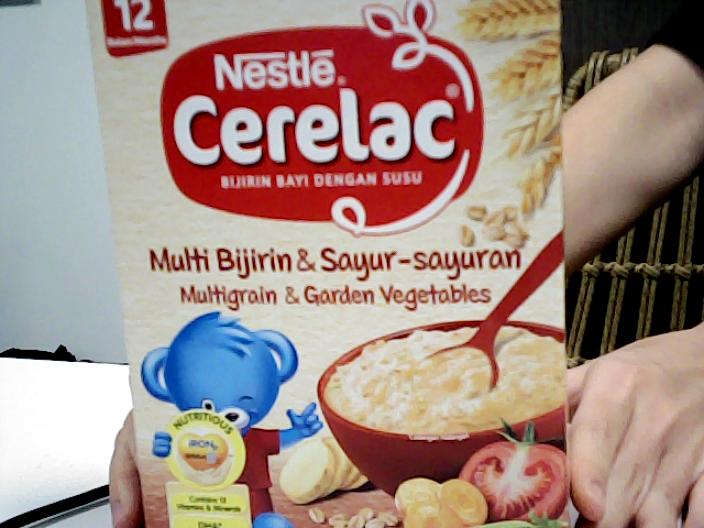Babyfood_200-299g_Halal_NonHealthy: (96, 1, 570, 528)
